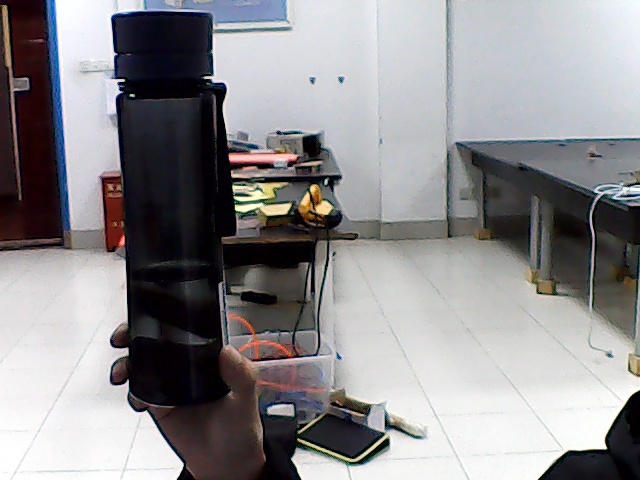cup: (116, 15, 222, 403)
